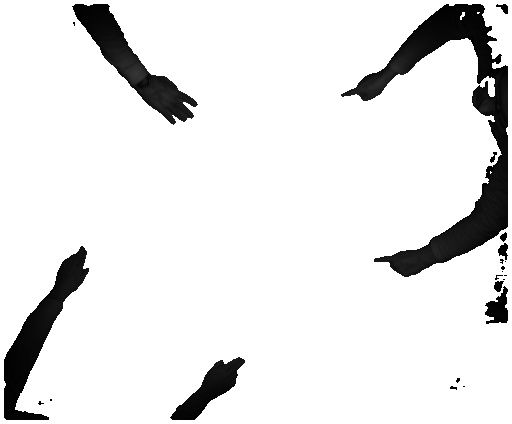hand: (143, 78, 199, 127), (55, 240, 95, 297), (205, 352, 247, 401), (368, 249, 426, 279), (336, 72, 388, 103)
